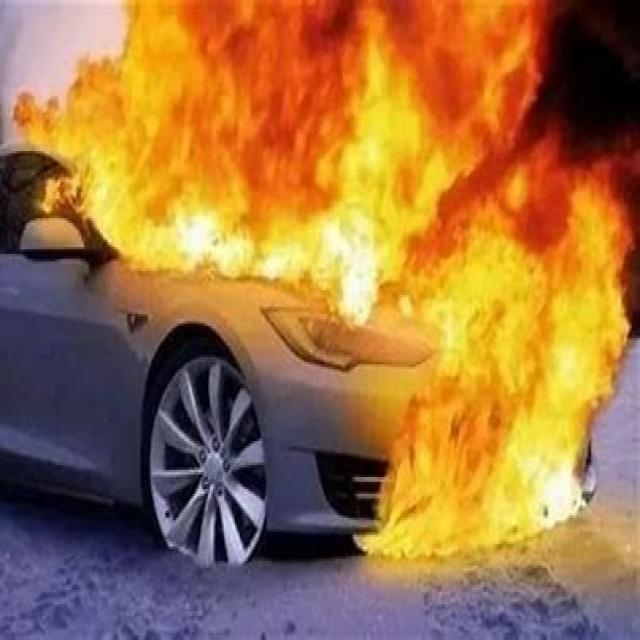fire: (12, 0, 640, 319), (355, 196, 634, 564)
